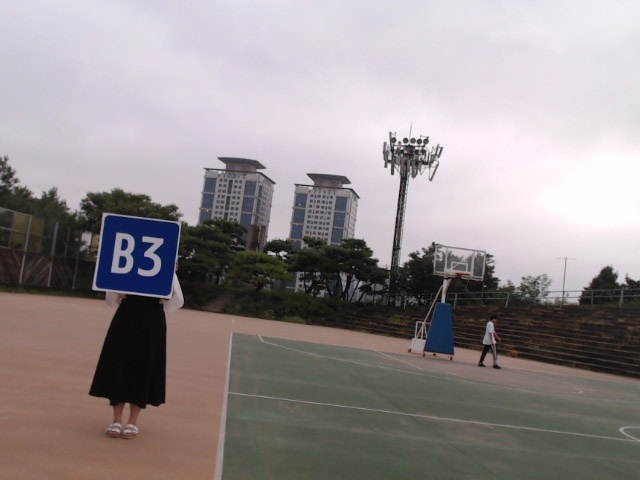delivery_b3: (95, 214, 178, 296)
